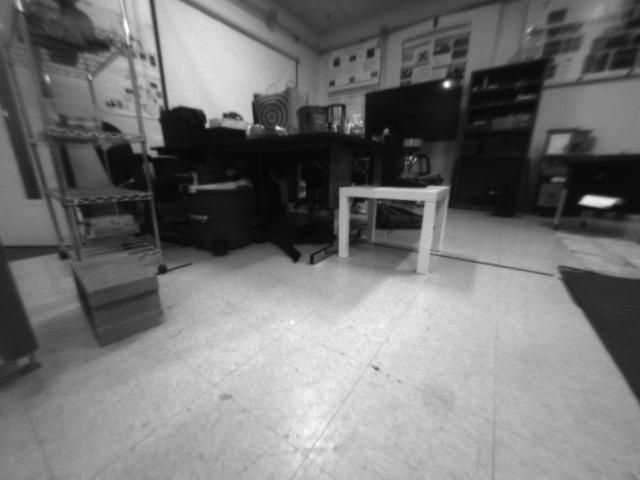coffee_pot: (383, 134, 432, 190)
